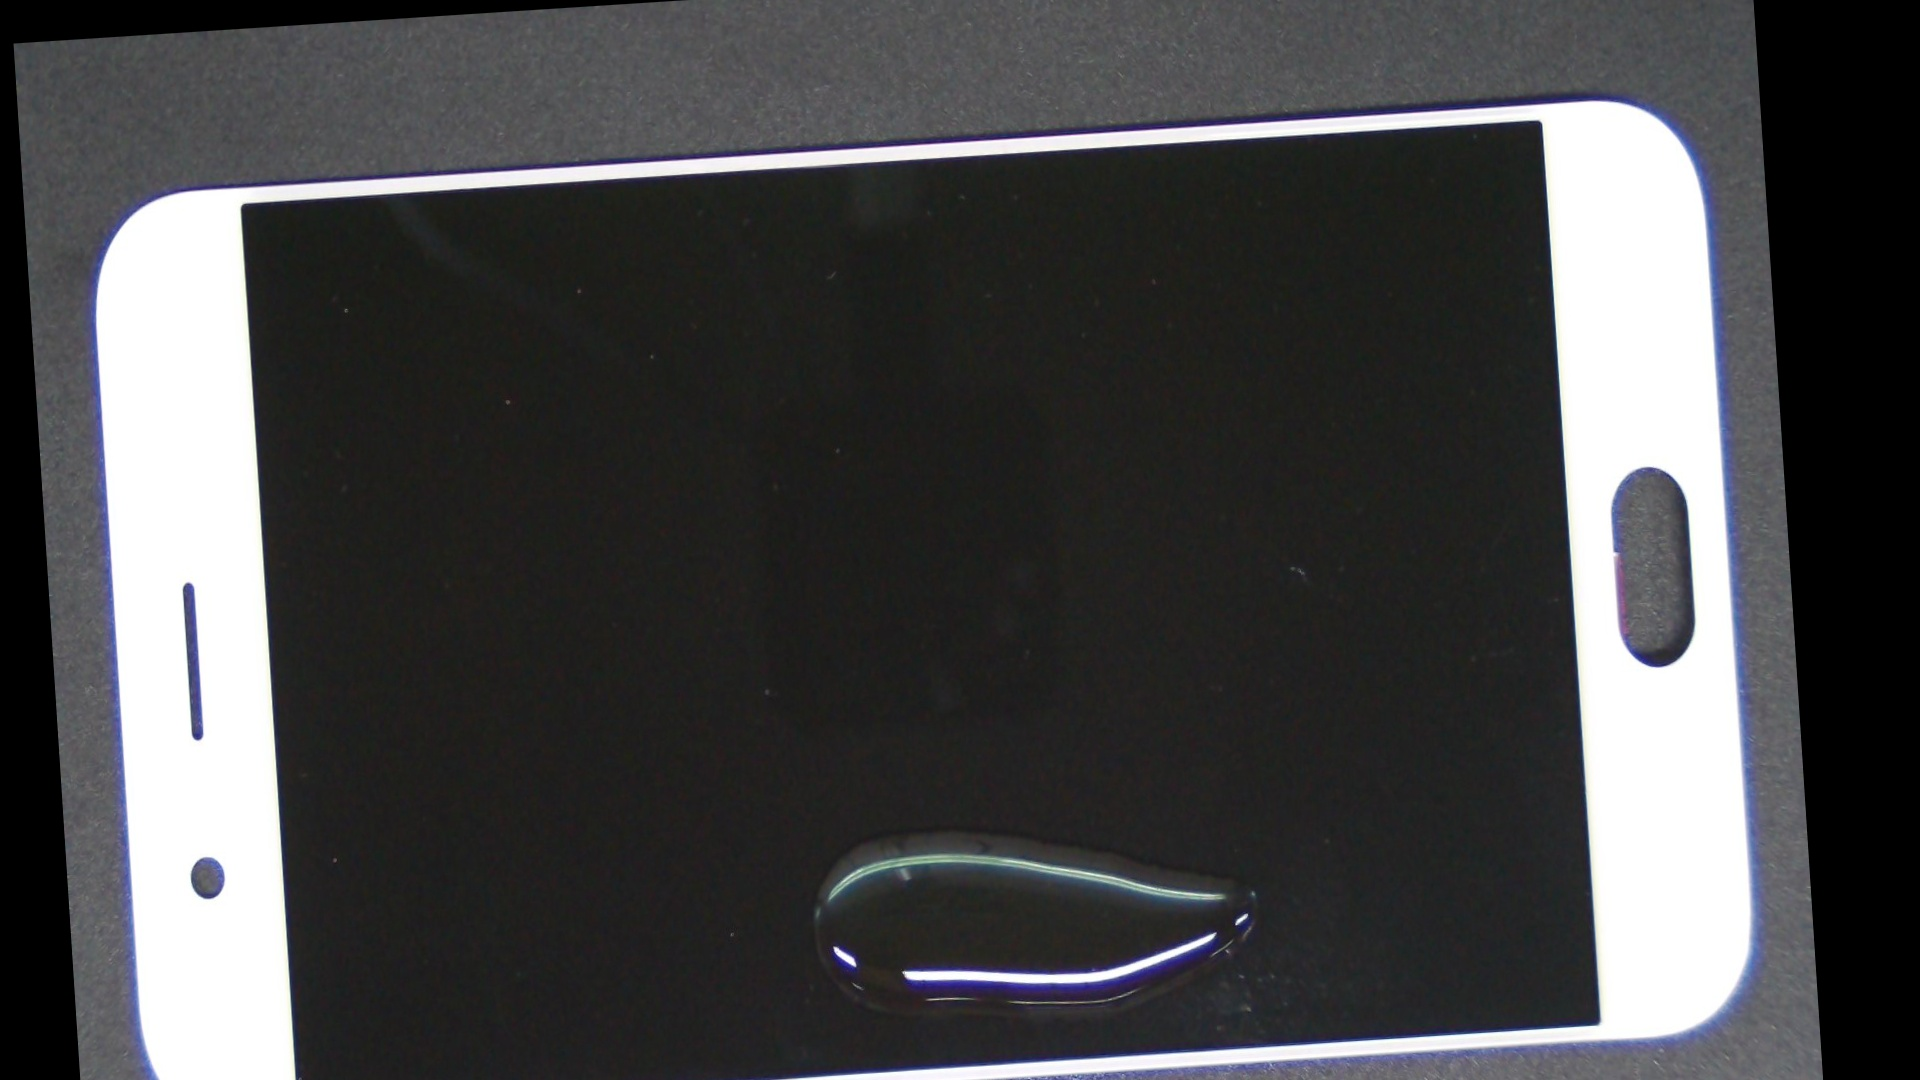oil: (463, 382, 1354, 1080)
